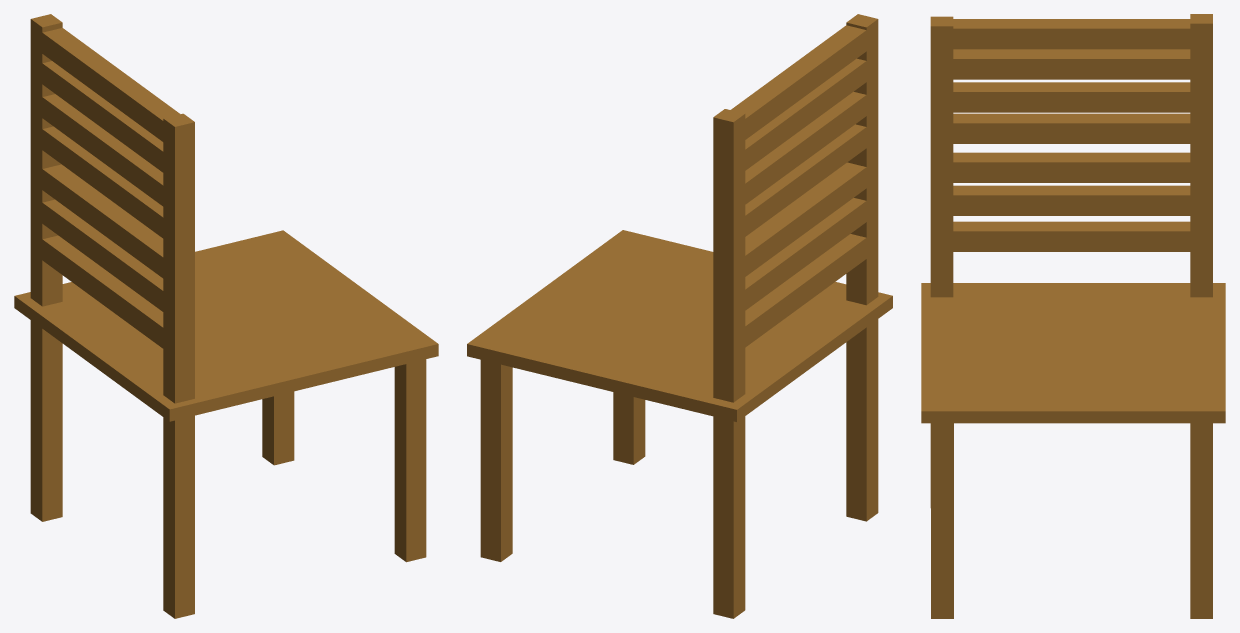
Rendered from Chair.fbx.
3 views of the same model, side by side, from view 1: azimuth 30°, elevation 25°; view 2: azimuth 150°, elevation 25°; view 3: azimuth 270°, elevation 25° (orthographic). The views are drawn at different scales.
Visible parts, largest first — view 1: Cube_2_2, Cube_4, Cube_5, Cube, Cube_3, Cube_6, Cube_2, Cube_10, Cube_12, Cube_8, Cube_11, Cube_9 (+2 smaller); view 2: Cube_2_2, Cube_5, Cube_4, Cube_1, Cube_3, Cube_2, Cube_6, Cube_10, Cube_12, Cube_8, Cube_11, Cube_9 (+2 smaller); view 3: Cube_2_2, Cube_10, Cube_9, Cube_11, Cube_8, Cube_12, Cube_7, Cube_6, Cube_5, Cube_4, Cube_1, Cube.
Part boxes in pixels (x1,y1,x2,y2): Cube_2_2: (14, 230, 438, 421); Cube_4: (163, 113, 194, 490); Cube_5: (30, 14, 62, 398); Cube: (394, 359, 426, 562); Cube_3: (163, 416, 194, 618); Cube_6: (41, 28, 180, 148); Cube_2: (30, 325, 62, 521); Cube_10: (42, 164, 172, 285); Cube_12: (42, 235, 172, 355); Cube_8: (41, 94, 172, 213); Cube_11: (42, 199, 172, 318); Cube_9: (42, 126, 172, 245); Cube_2_2: (467, 230, 892, 421); Cube_5: (713, 109, 745, 495); Cube_4: (846, 14, 878, 391); Cube_1: (480, 360, 512, 561); Cube_3: (846, 326, 878, 521); Cube_2: (713, 416, 745, 618); Cube_6: (731, 25, 866, 139); Cube_10: (744, 162, 866, 276); Cube_12: (744, 234, 866, 347); Cube_8: (744, 91, 866, 204); Cube_11: (744, 198, 866, 310); Cube_9: (745, 124, 866, 236); Cube_2_2: (921, 283, 1225, 423); Cube_10: (934, 152, 1191, 182); Cube_9: (934, 113, 1191, 143); Cube_11: (934, 185, 1191, 215); Cube_8: (934, 82, 1191, 112); Cube_12: (934, 221, 1191, 251); Cube_7: (934, 49, 1191, 79); Cube_6: (934, 19, 1191, 49); Cube_5: (1190, 14, 1212, 297); Cube_4: (930, 16, 953, 297); Cube_1: (1190, 423, 1212, 618); Cube: (931, 423, 953, 618).
Bounding box in the file's own units: 200 × 352 × 200.
